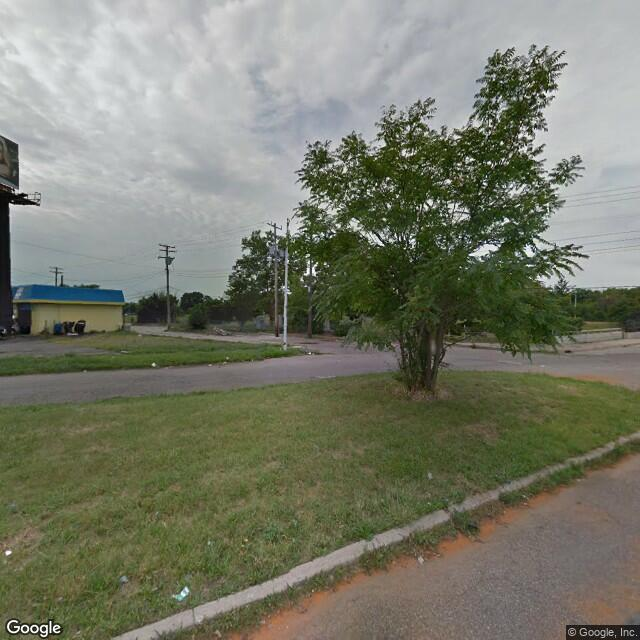litter: (168, 584, 193, 600), (208, 354, 234, 367), (3, 543, 17, 562), (147, 357, 162, 369)
